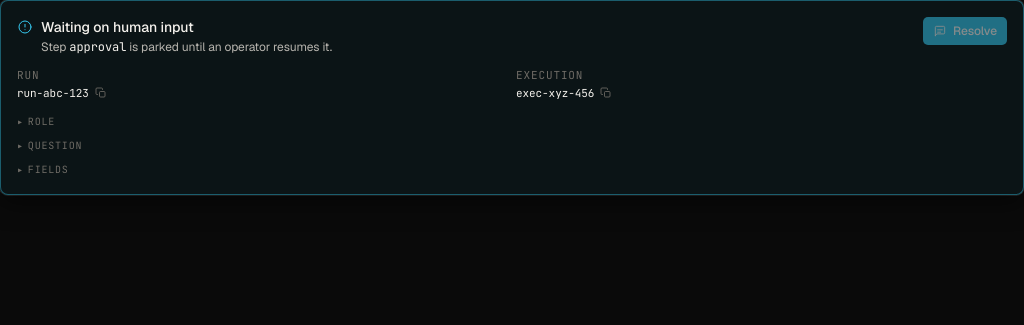
HumanInputGate › renders the role and the schema field list when expanded
Click the button with test id "human-input-gate-role-toggle" at (36, 122), box 17,114 -> 55,130
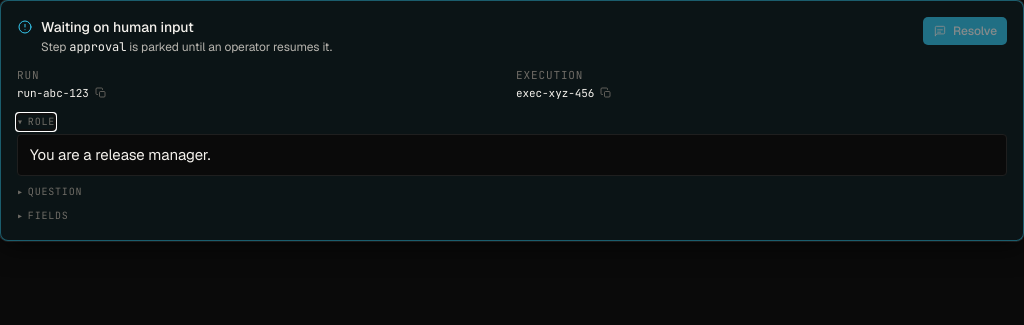
Expected: the element with test id "human-input-gate-role" reads "You are a release manager.", 30,145 -> 210,164
Click the button with test id "human-input-gate-fields-toggle" at (43, 216), box 17,208 -> 69,224
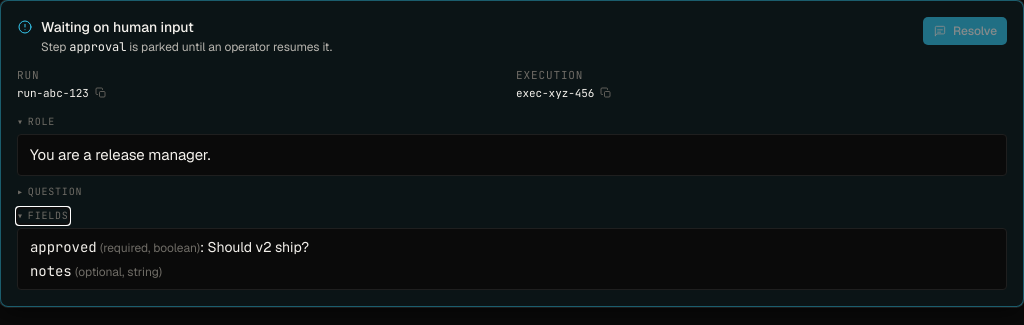
Expected: the number of list items with test id "human-input-gate-field" is 2, 30,238 -> 309,256; 30,262 -> 162,280
Expected: the list item with test id "human-input-gate-field" reads "approved (required, boolean): Should v2 ship?", 30,238 -> 309,256
Expected: the list item with test id "human-input-gate-field" reads "notes (optional, string)", 30,262 -> 162,280
